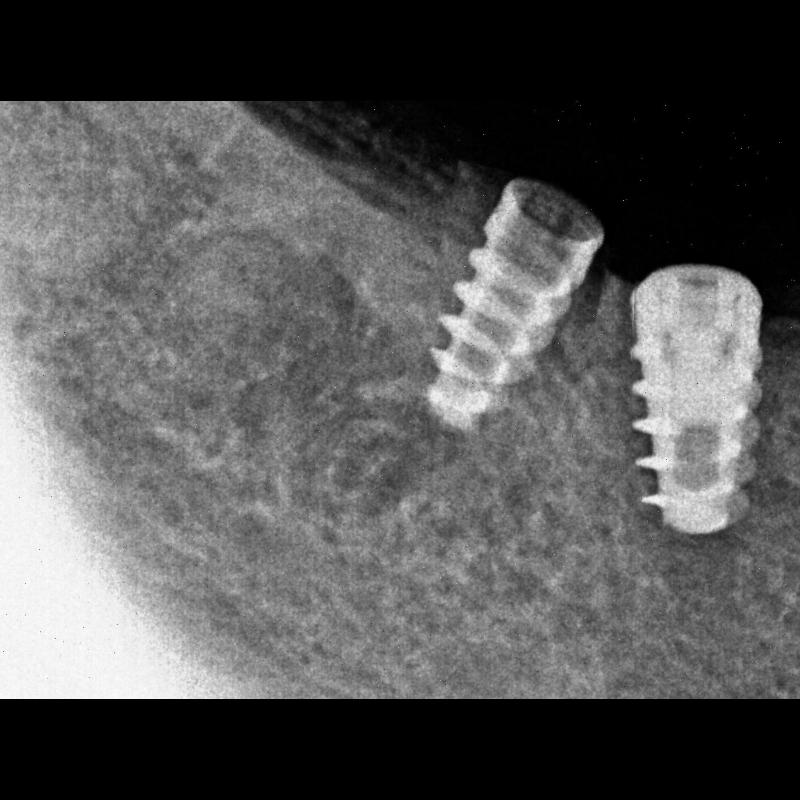ADIN: (416, 168, 610, 450), (628, 261, 786, 541)
